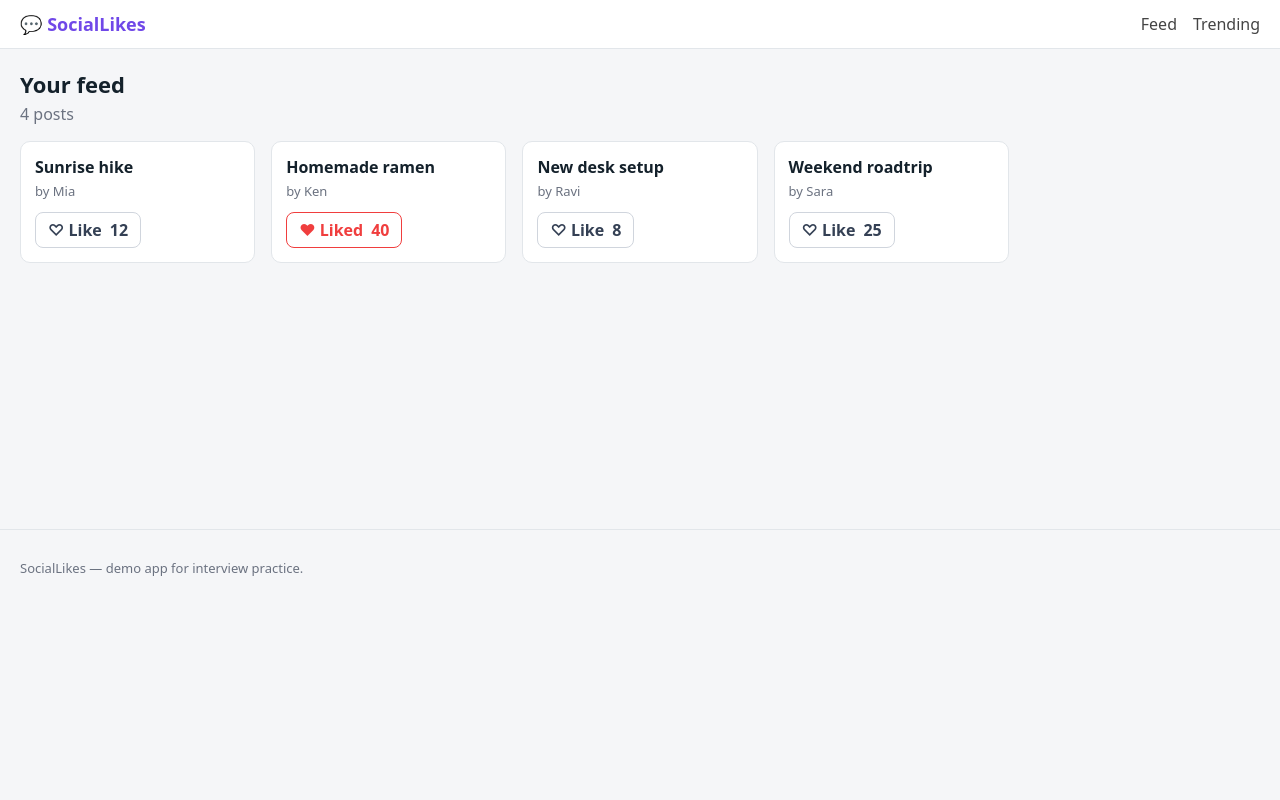
Scenario: m06 · SocialLikes — app renders › navigates to the Trending route via the navbar
This screenshot has width=1280, height=800.
Click the link with test id "nav-trending".
click(1226, 24)  # box left=1193, top=13, right=1260, bottom=35
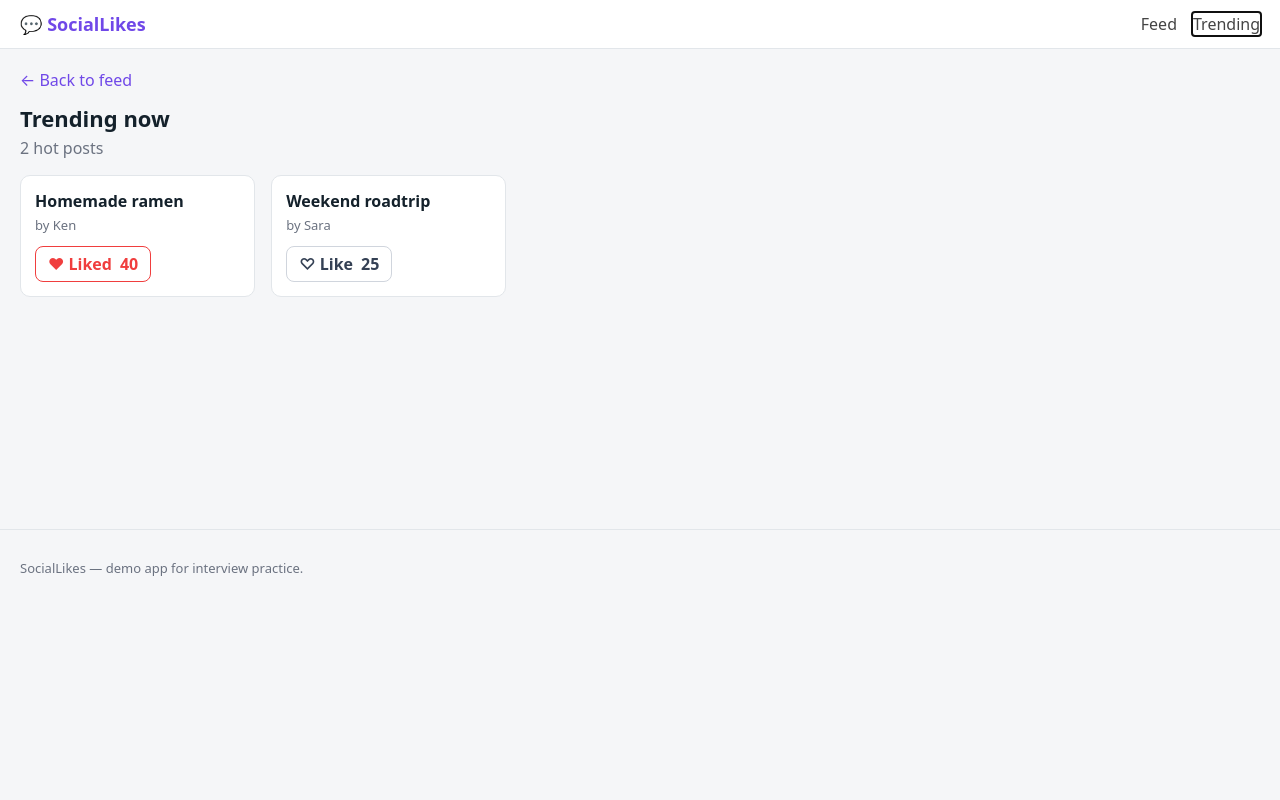
Expected: the element with test id "trending-page" is shown, left=20, top=69, right=506, bottom=297
